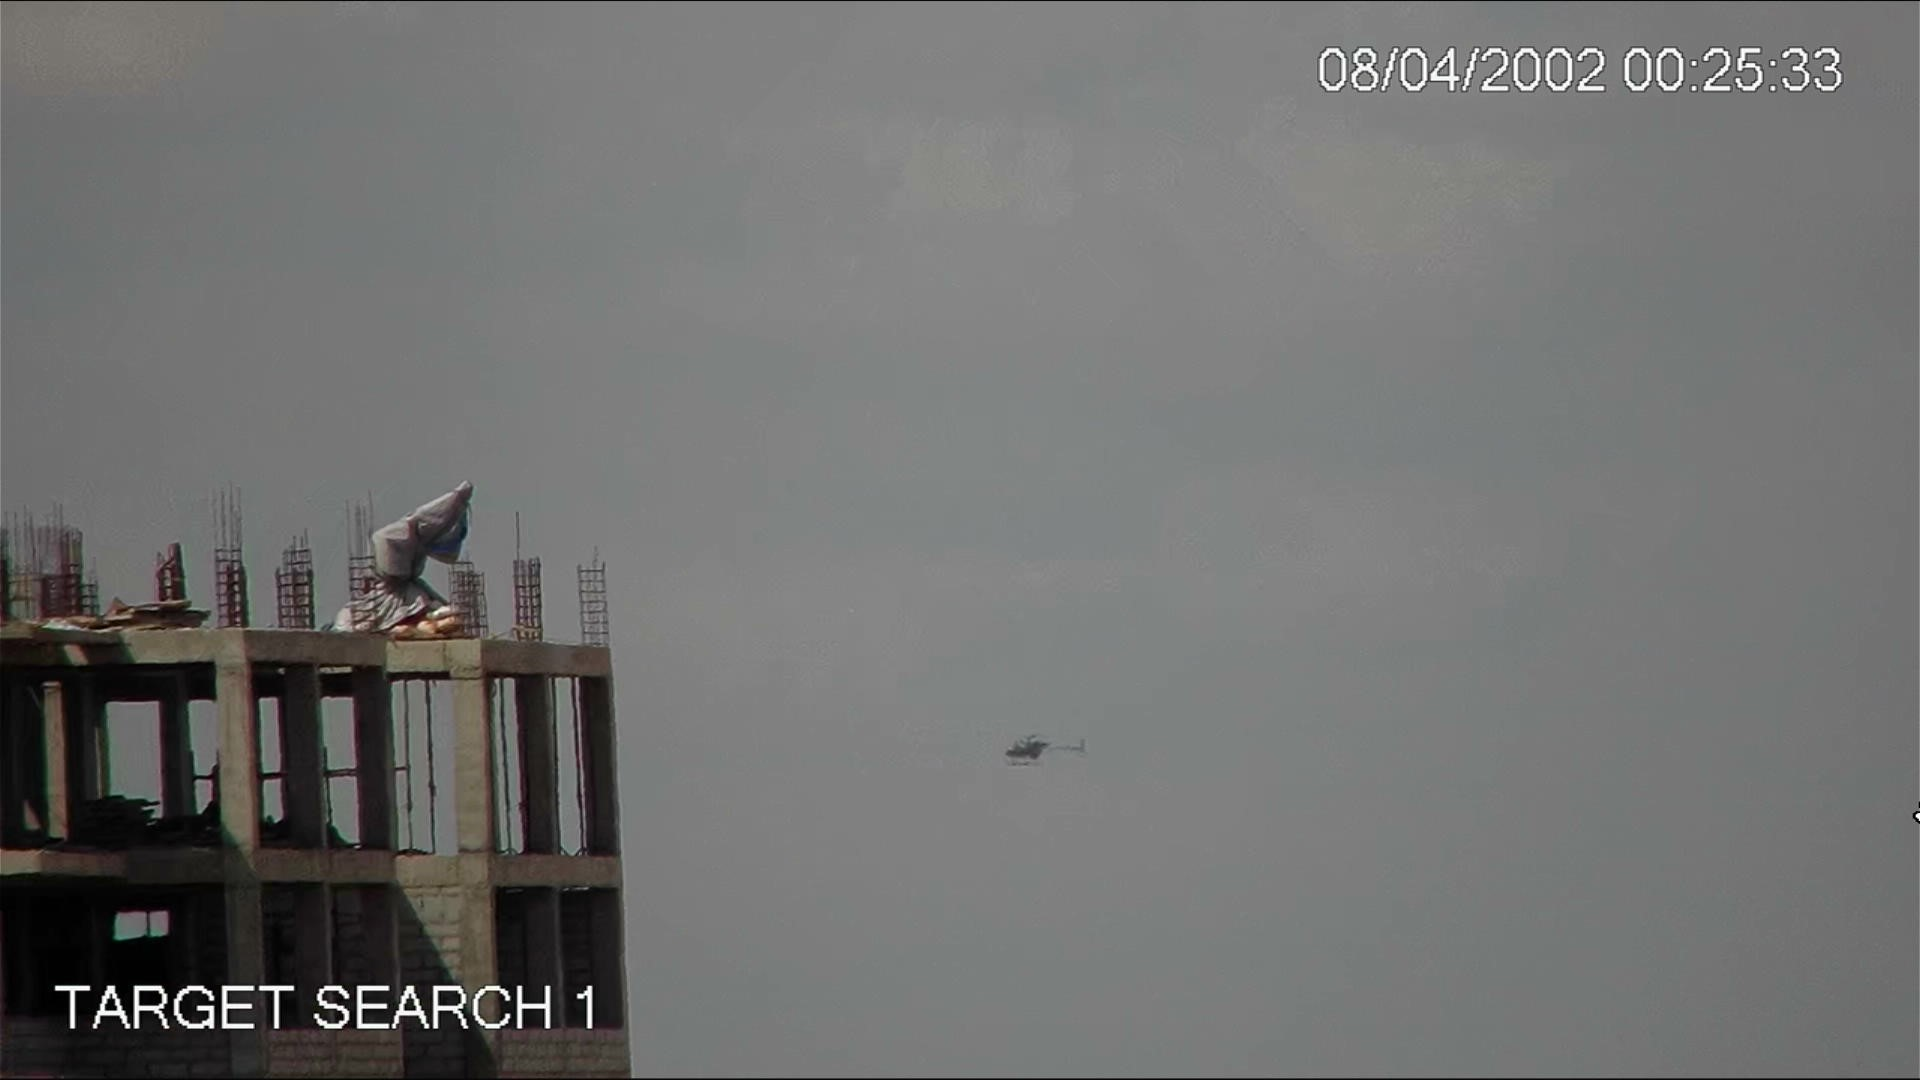SU_30: (1000, 727, 1096, 767)
